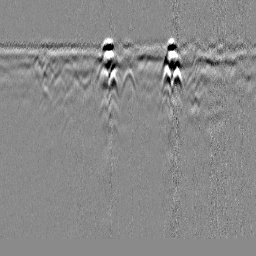cavity: (120, 66, 137, 98)
